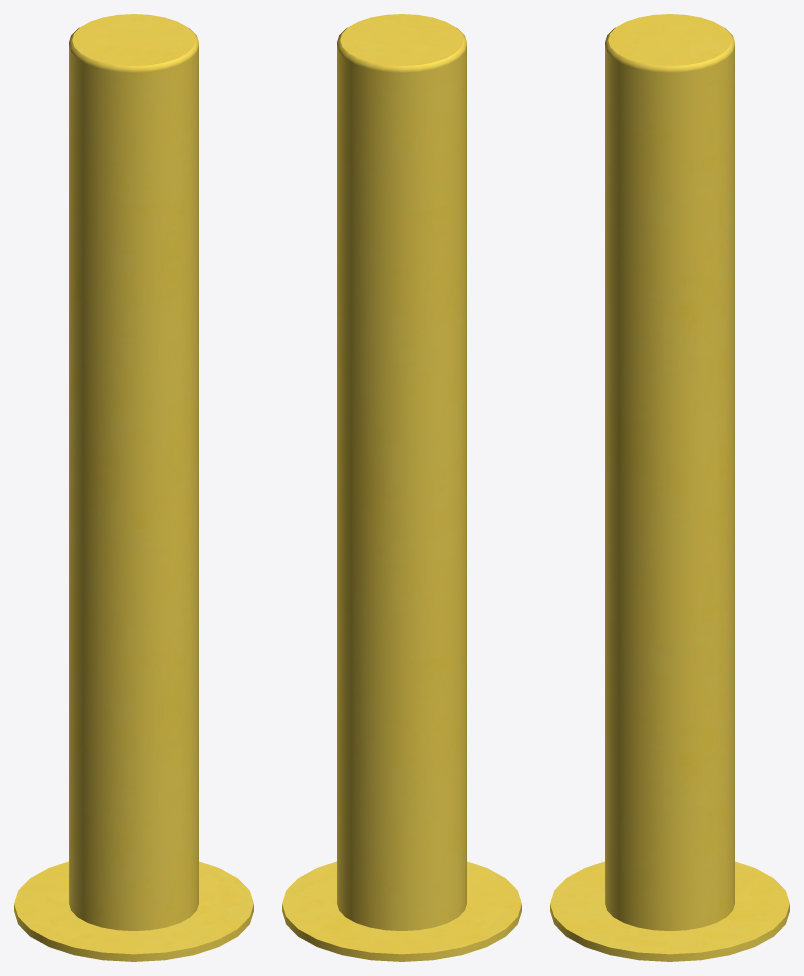
Rendered from bb-bollard.glb.
The picture shows the model from 3 angles, left to right: view 1: azimuth 30°, elevation 25°; view 2: azimuth 150°, elevation 25°; view 3: azimuth 270°, elevation 25°; orthographic projection.
Visible parts, largest first — view 1: Flat_head_bollard_Material__111_0; view 2: Flat_head_bollard_Material__111_0; view 3: Flat_head_bollard_Material__111_0.
Part boxes in pixels (x1,y1,x2,y2): Flat_head_bollard_Material__111_0: (14,14,253,961); Flat_head_bollard_Material__111_0: (282,14,521,961); Flat_head_bollard_Material__111_0: (550,14,789,961).
Bounding box in the file's own units: 0.2121 × 0.85 × 0.2121.
1 material, 1 textured.
